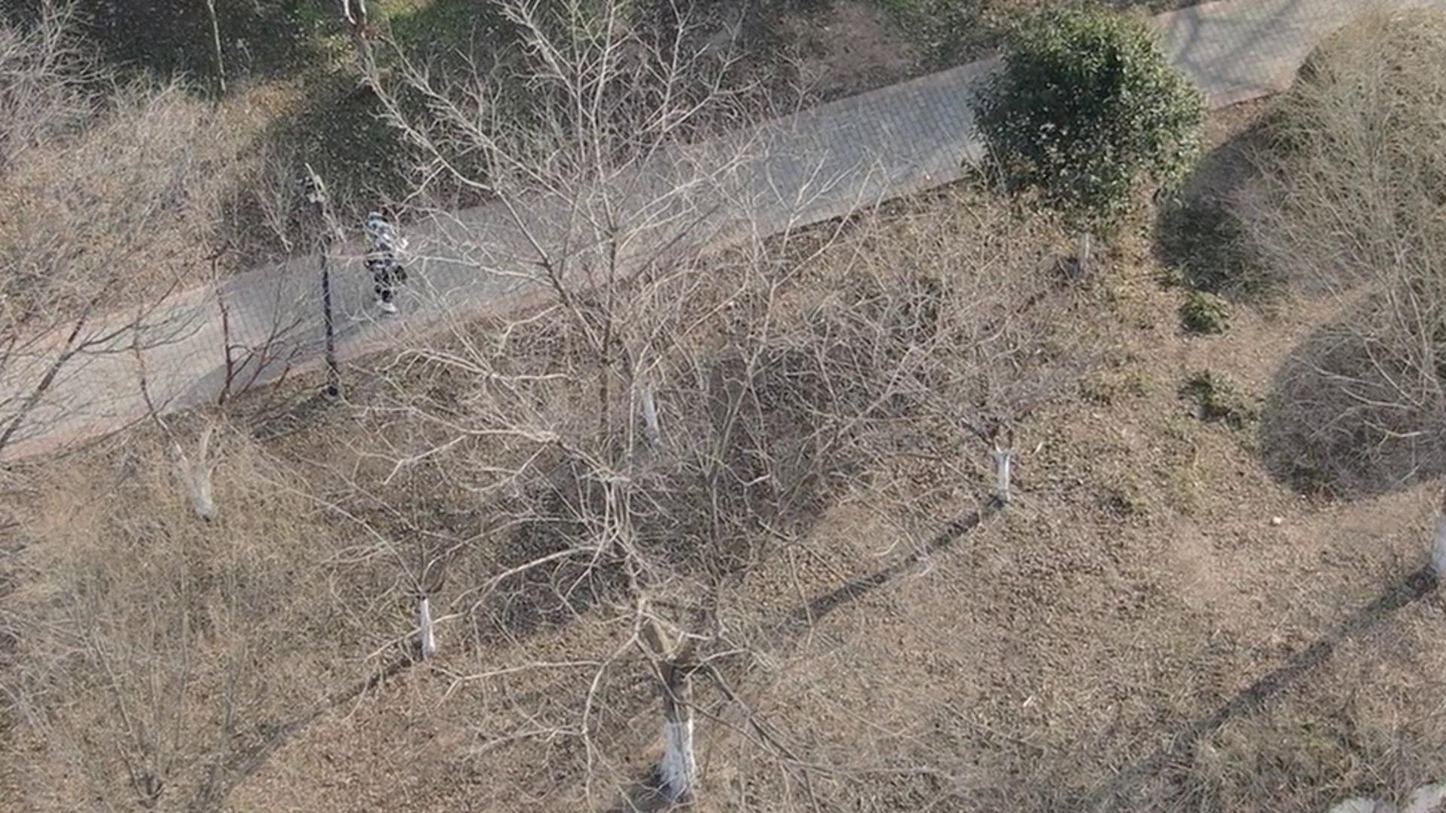human: (380, 215, 434, 318)
